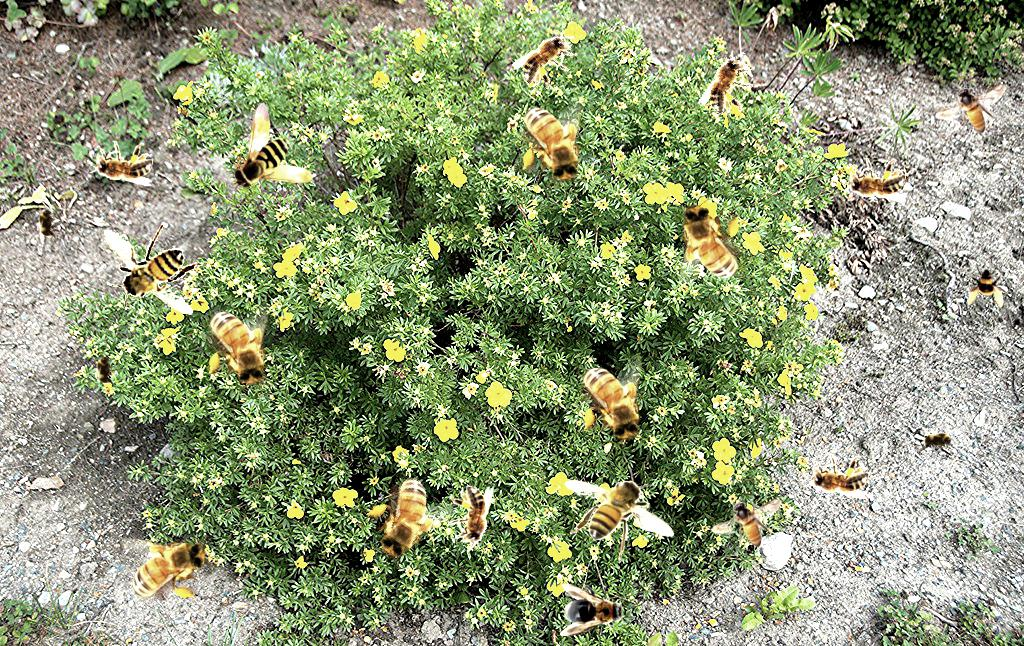Bee: (82, 206, 217, 330), (349, 461, 465, 574), (564, 466, 675, 560), (231, 102, 313, 190), (577, 352, 649, 449), (205, 299, 273, 392), (519, 95, 587, 188), (675, 198, 743, 291), (120, 534, 213, 602), (509, 19, 589, 98), (697, 43, 763, 122), (935, 84, 1006, 134), (711, 498, 782, 548), (560, 584, 628, 636), (838, 156, 908, 205), (803, 454, 869, 499), (448, 486, 493, 552), (87, 141, 153, 186), (966, 264, 1010, 308), (36, 203, 58, 243), (918, 430, 958, 452), (94, 350, 116, 390)
